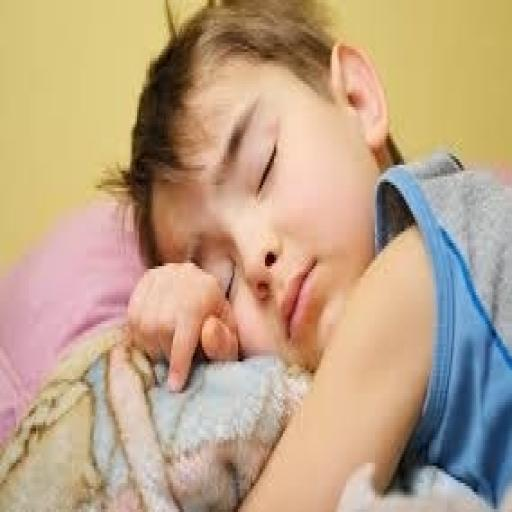sleeping: (0, 0, 508, 509)
